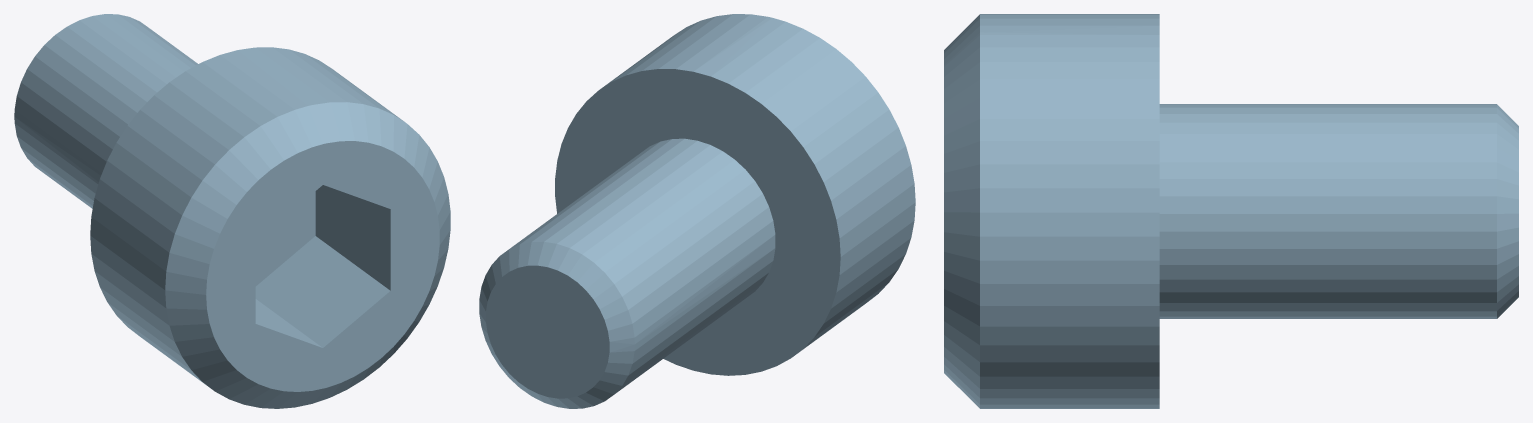
Rendered from case-02_lib00006.glb.
The picture shows the model from 3 angles, left to right: view 1: azimuth 30°, elevation 25°; view 2: azimuth 150°, elevation 25°; view 3: azimuth 270°, elevation 25°; orthographic projection. The views are drawn at different scales.
Visible parts, largest first — view 1: lib00006; view 2: lib00006; view 3: lib00006.
Boxes of the visible parts, x1,y1,x2,y2 form: lib00006: (14,14,450,408); lib00006: (479,14,915,408); lib00006: (944,14,1518,408).
Bounding box in the file's own units: 5.49 × 5.5 × 8.
